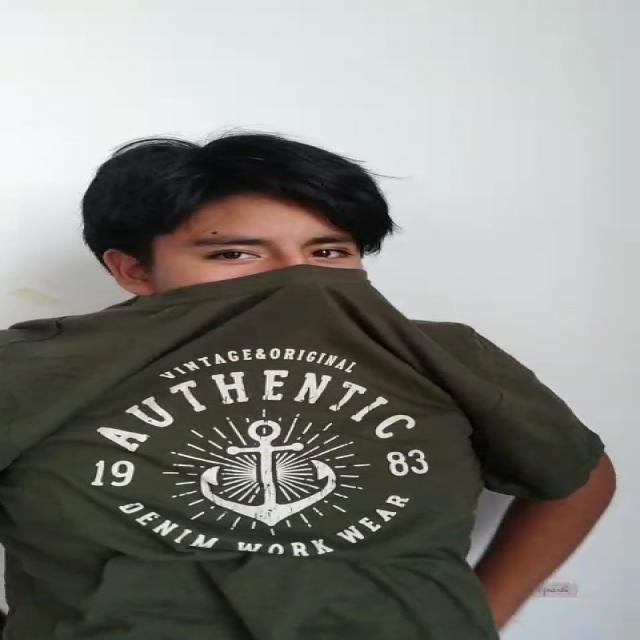8_ropa_rostro: (98, 259, 487, 405)
